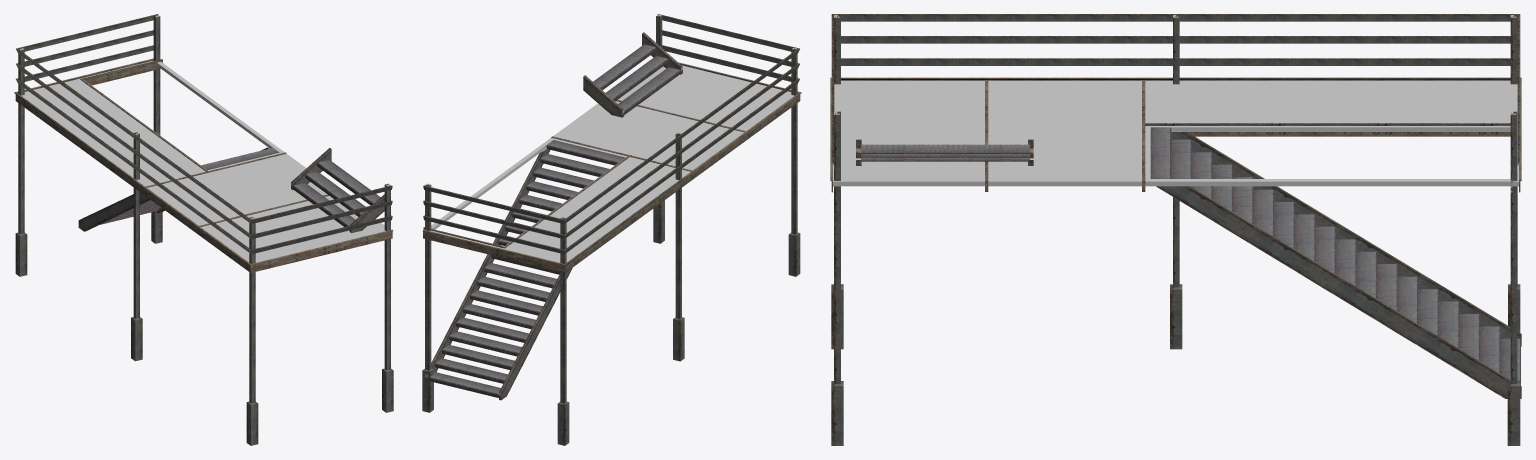
The model's file is BuildingBStaircase.FBX.
3 renders of one model, left to right at view 1: azimuth 30°, elevation 25°; view 2: azimuth 150°, elevation 25°; view 3: azimuth 270°, elevation 25°, orthographic. The views are drawn at different scales.
Visible parts, largest first — view 1: BuildingBStaircase; view 2: BuildingBStaircase; view 3: BuildingBStaircase.
Boxes of the visible parts, x1,y1,x2,y2 form: BuildingBStaircase: [14, 14, 393, 445]; BuildingBStaircase: [422, 14, 801, 445]; BuildingBStaircase: [830, 14, 1521, 445].
Size of the model in its own units: 367 by 531 by 1008.
